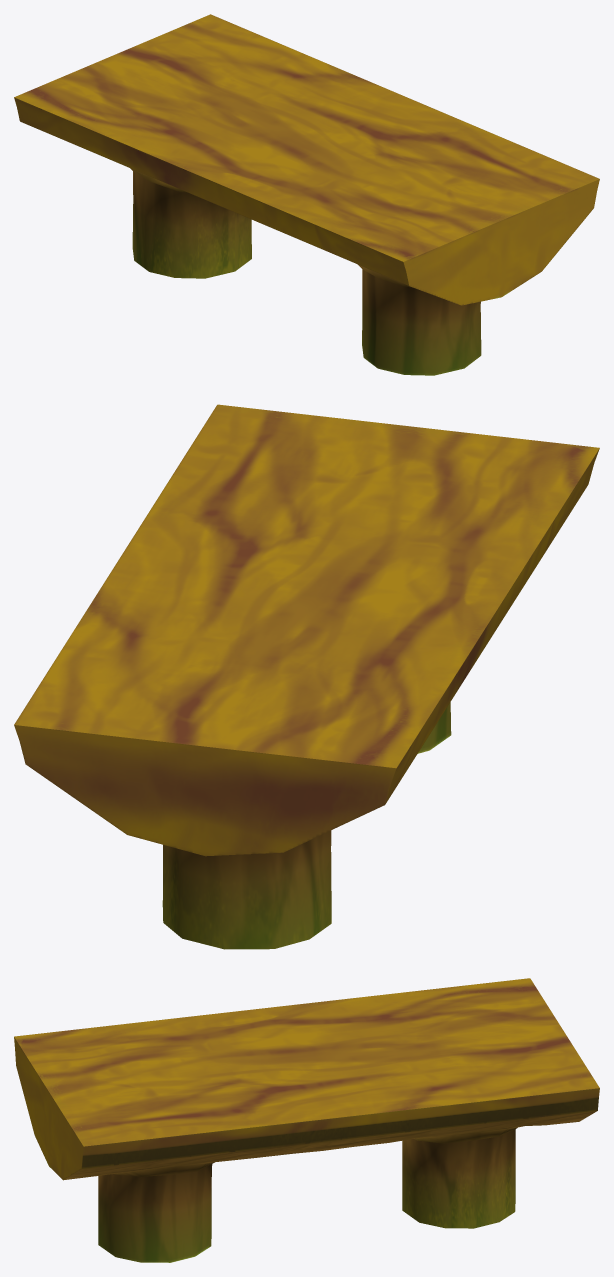
The model's file is kitchen_table.glb.
3 views of the same model, one above another, from view 1: azimuth 30°, elevation 25°; view 2: azimuth 150°, elevation 25°; view 3: azimuth 270°, elevation 25° (orthographic). The views are drawn at different scales.
Visible parts, largest first — view 1: Retopo_Cylinder; view 2: Retopo_Cylinder; view 3: Retopo_Cylinder.
Part boxes in pixels (x1,y1,x2,y2): Retopo_Cylinder: (14,14,599,375); Retopo_Cylinder: (14,404,599,949); Retopo_Cylinder: (14,978,599,1262).
Bounding box in the file's own units: 11.63 × 5.12 × 17.1.
Materials: 1 (1 with a texture image).
